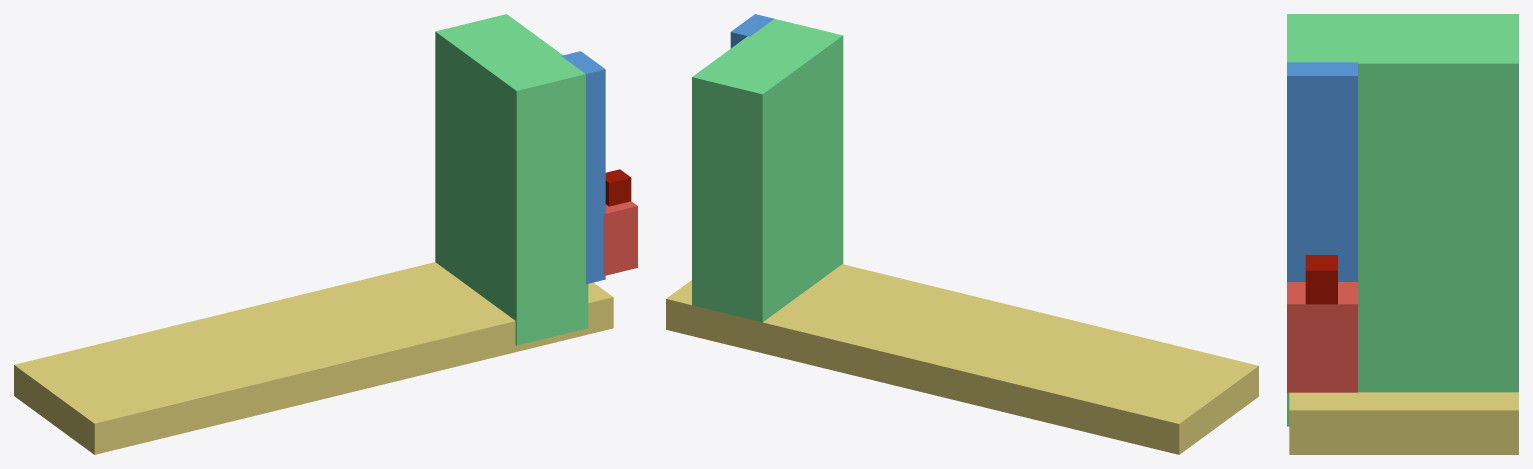
Rendered from simple.glb.
The picture shows the model from 3 angles, left to right: view 1: azimuth 30°, elevation 25°; view 2: azimuth 150°, elevation 25°; view 3: azimuth 270°, elevation 25°; orthographic projection. The views are drawn at different scales.
Parts seen in each view (by area): view 1: 立方体, X, Y, Z, Block; view 2: 立方体, X, Y; view 3: X, Y, 立方体, Z, Block.
Boxes of the visible parts, x1,y1,x2,y2 form: 立方体: (14,262,613,454); X: (435,14,588,345); Y: (561,51,605,284); Z: (603,201,637,275); Block: (605,169,631,206); 立方体: (666,264,1258,454); X: (692,19,843,335); Y: (730,14,774,48); X: (1287,14,1518,426); Y: (1287,62,1357,281); 立方体: (1289,392,1518,454); Z: (1287,282,1357,392); Block: (1305,255,1337,304).
Size of the model in its own units: 91.01 by 41.97 by 23.65.
